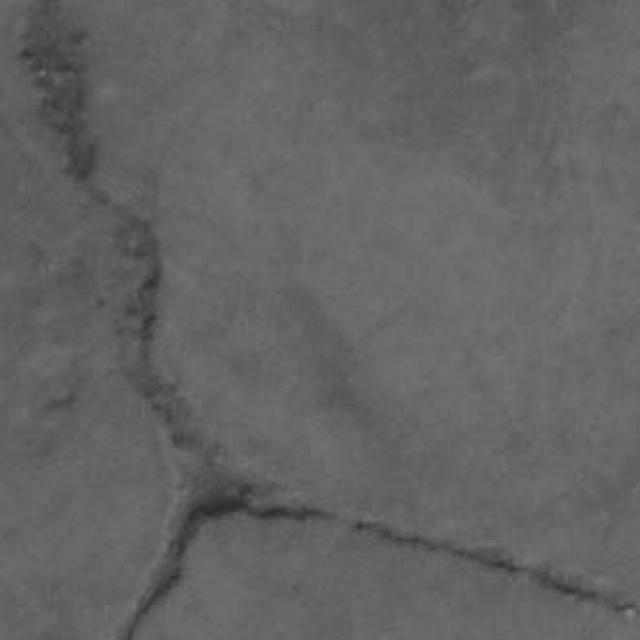crack: (22, 0, 638, 639), (113, 206, 639, 639), (117, 472, 639, 639), (247, 505, 639, 618), (20, 0, 96, 182)
